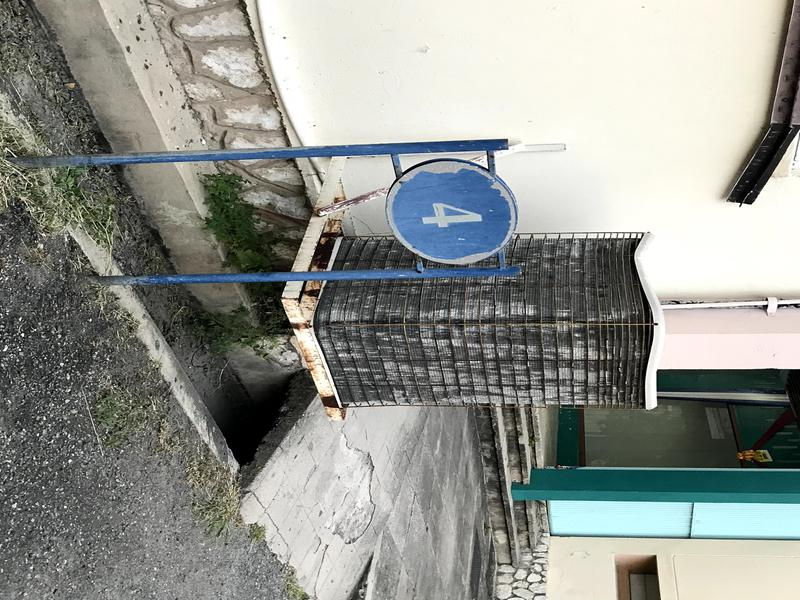18.0053530_-76.7490375_signatentrancetoscitech: (1, 128, 531, 308)
